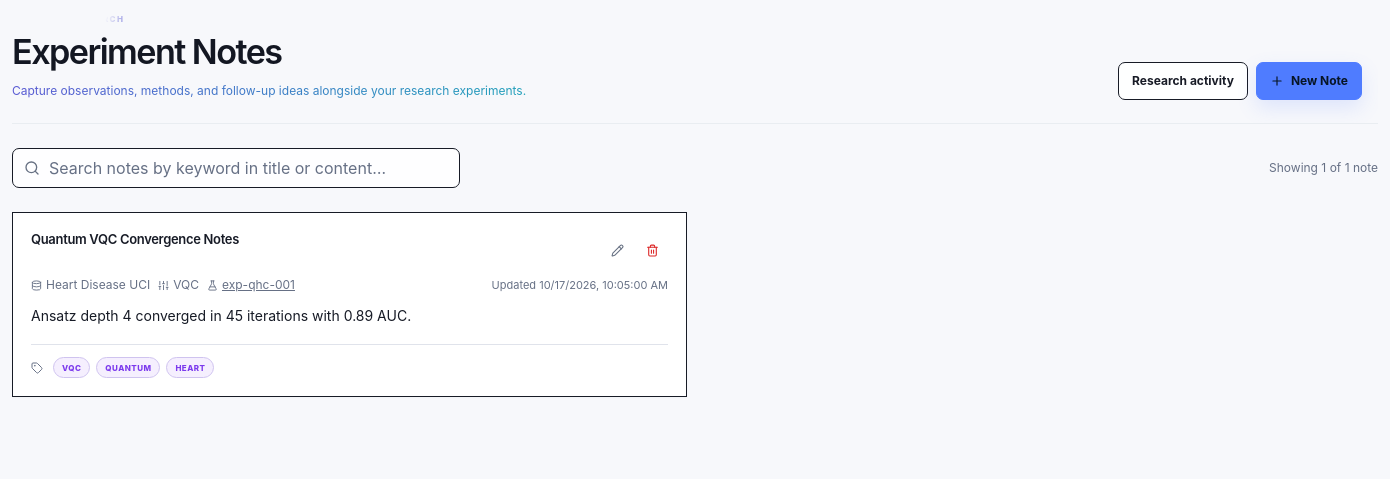
Test: Experiment Notes UI — Edit & Delete Operations › confirms and deletes a note when Delete button is clicked
Expected: the heading "Quantum VQC Convergence Notes" is shown, 31,231 -> 239,249
Click the button titled "Delete note".
click(652, 250)  # box 637,231 -> 668,269
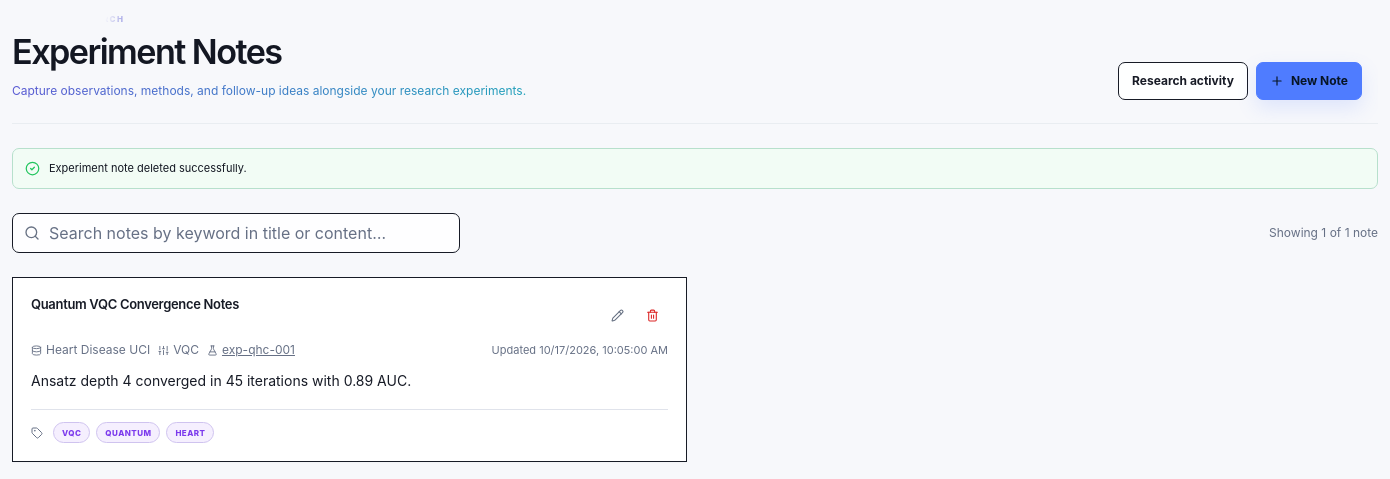
Expected: the text "Experiment note deleted successfully." is shown, 49,161 -> 247,175
